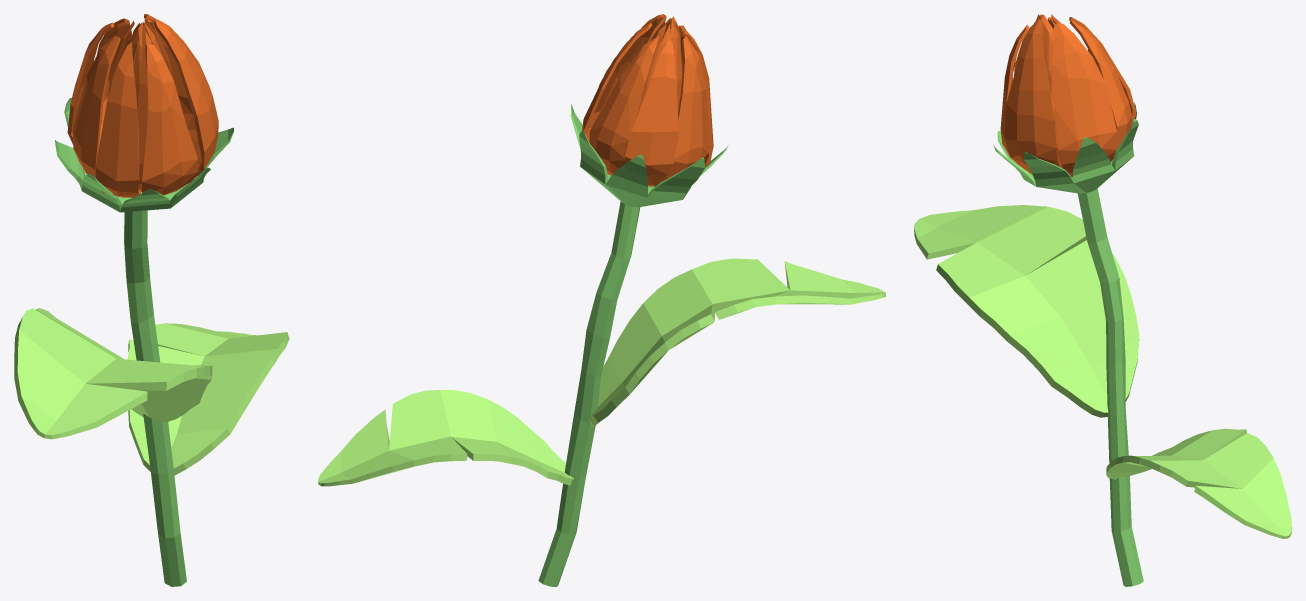
Rendered from Flower_9.fbx.
The picture shows the model from 3 angles, left to right: view 1: azimuth 30°, elevation 25°; view 2: azimuth 150°, elevation 25°; view 3: azimuth 270°, elevation 25°; orthographic projection. The views are drawn at different scales.
Parts seen in each view (by area): view 1: Flower_9; view 2: Flower_9; view 3: Flower_9.
Boxes of the visible parts, bbox=[...] form: Flower_9: bbox=[14, 14, 289, 586]; Flower_9: bbox=[318, 14, 885, 586]; Flower_9: bbox=[914, 14, 1291, 586].
Size of the model in its own units: 54.63 by 75.36 by 47.98.
